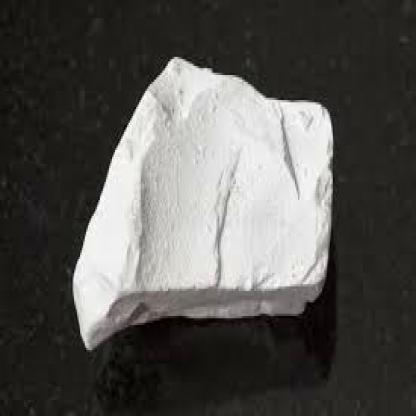Sedimentary_Chalk: (64, 27, 338, 355)
